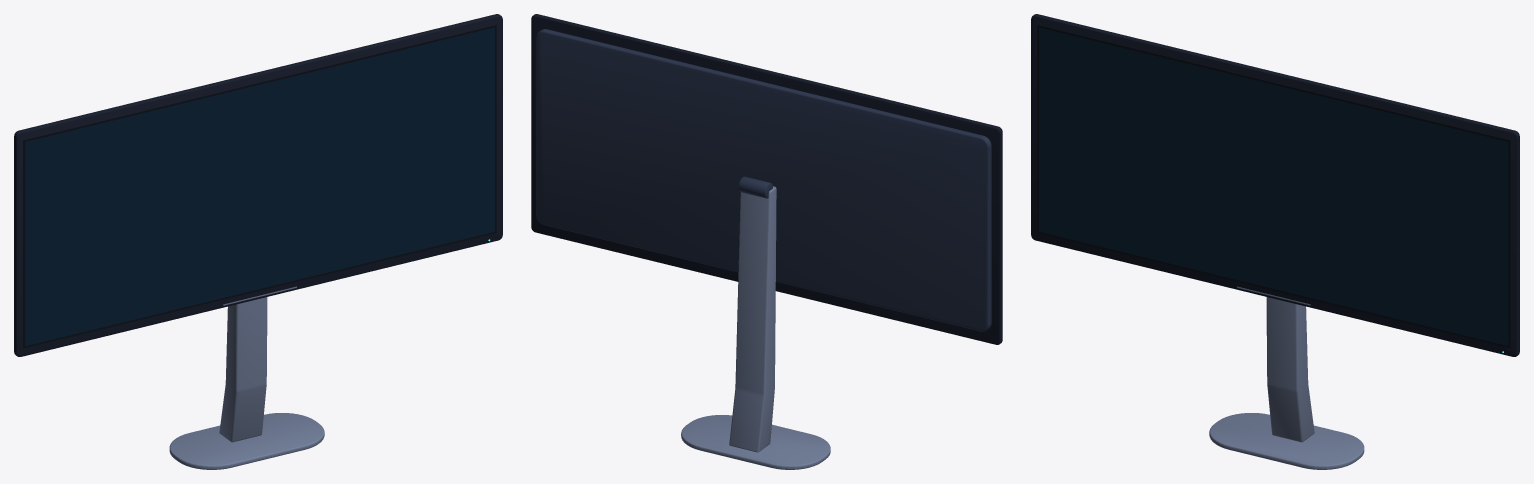
The model's file is monitor.glb.
3 renders of one model, left to right at view 1: azimuth 30°, elevation 25°; view 2: azimuth 150°, elevation 25°; view 3: azimuth 330°, elevation 25°, orthographic. The views are drawn at different scales.
Visible parts, largest first — view 1: Screen, monitor; view 2: monitor; view 3: Screen, monitor.
Part boxes in pixels (x1,y1,x2,y2): Screen: (25,27,494,345); monitor: (14,14,502,469); monitor: (531,14,1002,469); Screen: (1039,27,1508,345); monitor: (1031,14,1519,469).
Size of the model in its own units: 1.72 by 1.28 by 0.2599.
